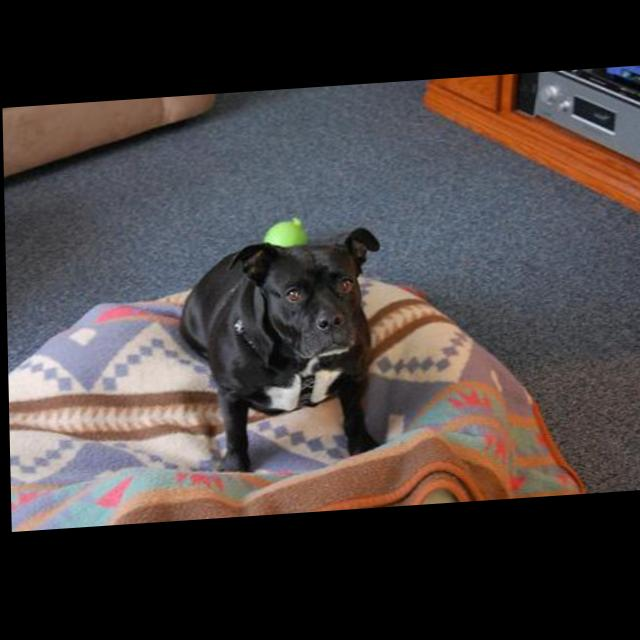amstaff: (177, 230, 386, 481)
